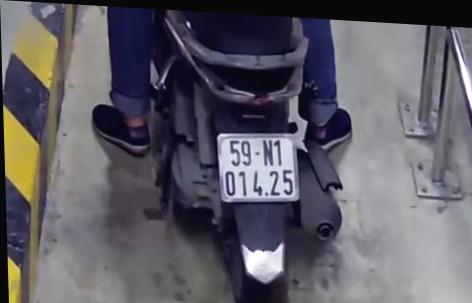License_Plate: (208, 125, 305, 210)
